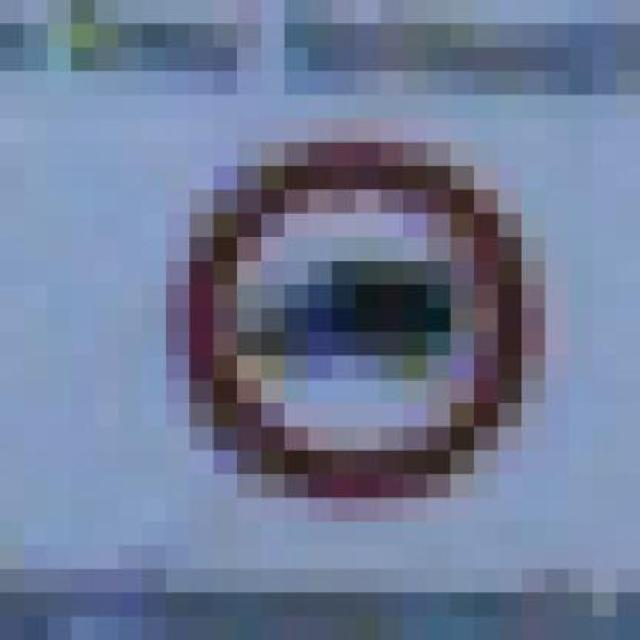Truck traffic is prohibited: (94, 142, 568, 546)
